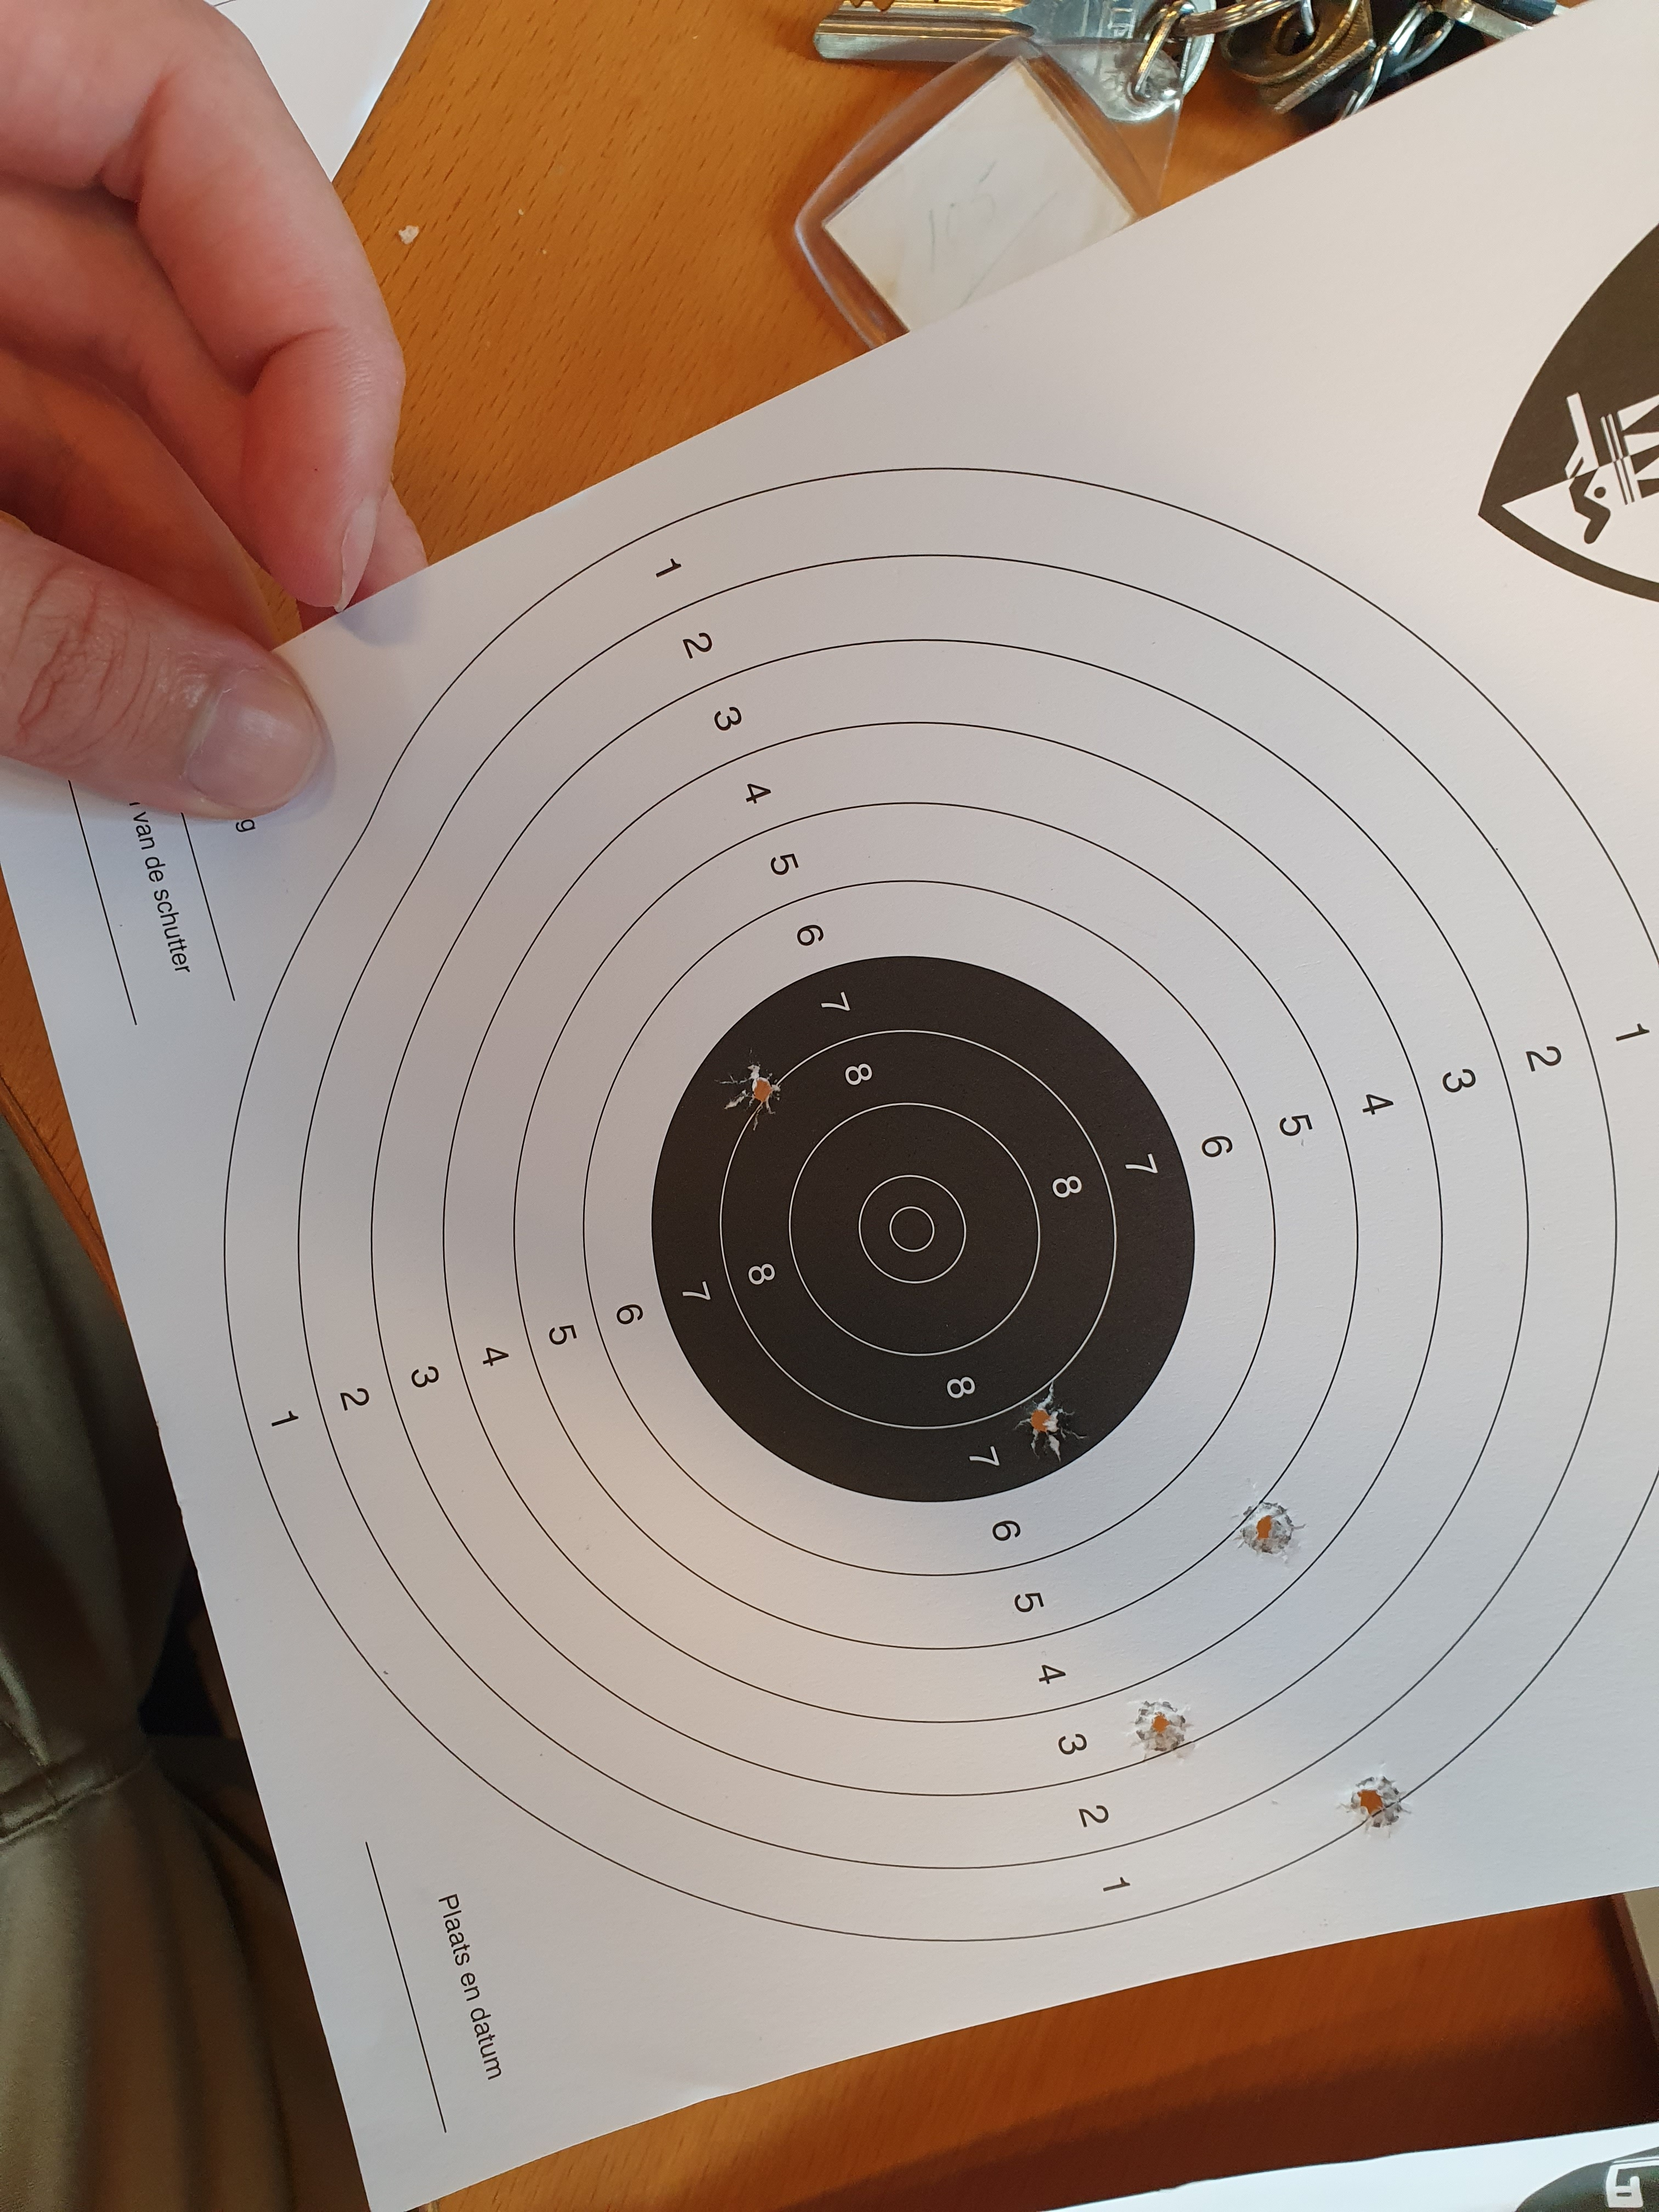center: (650, 954, 1199, 1505)
out: (221, 463, 1659, 1946)
shot: (1014, 1386, 1082, 1461), (1237, 1498, 1305, 1568), (1131, 1695, 1195, 1761), (723, 1052, 782, 1122), (1344, 1770, 1408, 1832)
target: (857, 1176, 965, 1287)
